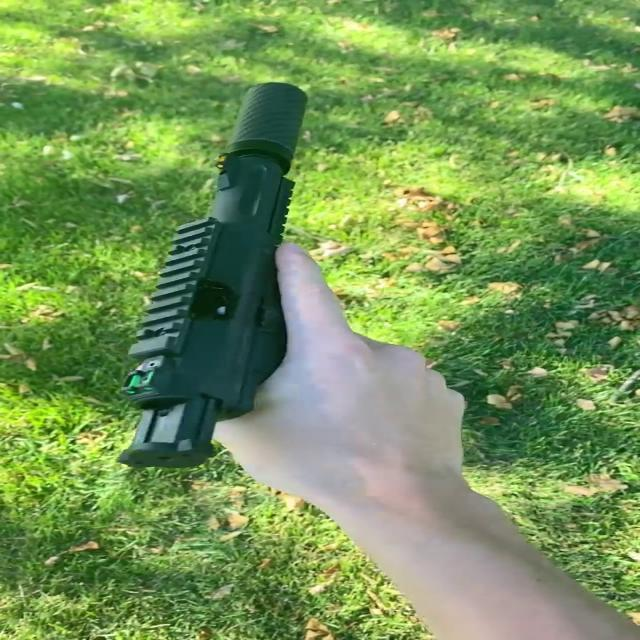Handgun: (102, 71, 418, 515)
